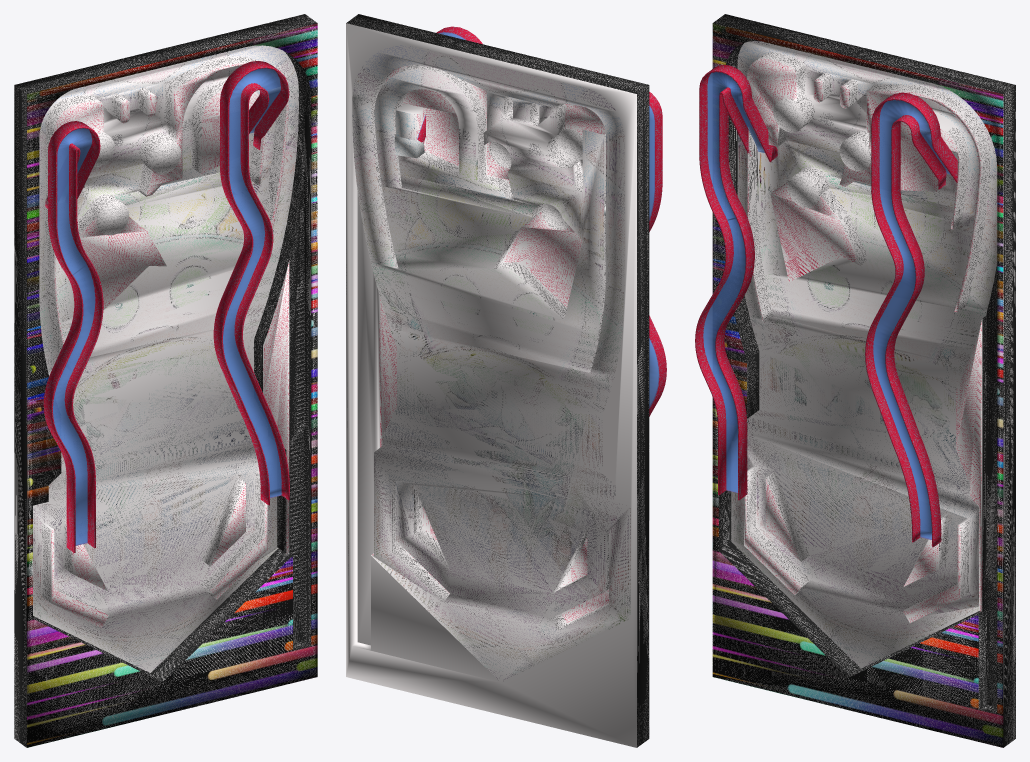
File: upRickAndMorty.dae
3 views of the same model, side by side, from view 1: azimuth 30°, elevation 25°; view 2: azimuth 150°, elevation 25°; view 3: azimuth 330°, elevation 25° (orthographic).
Visible parts, largest first — view 1: SketchUp (×28); view 2: SketchUp (×22); view 3: SketchUp (×30).
Part boxes in pixels (left/top/right/bottom): SketchUp (×28): left=14, top=14, right=317, bottom=747; SketchUp (×22): left=346, top=14, right=666, bottom=747; SketchUp (×30): left=695, top=14, right=1015, bottom=747.
Size of the model in its own units: 1850 by 384 by 3976.
Materials: 9 (2 with a texture image).
